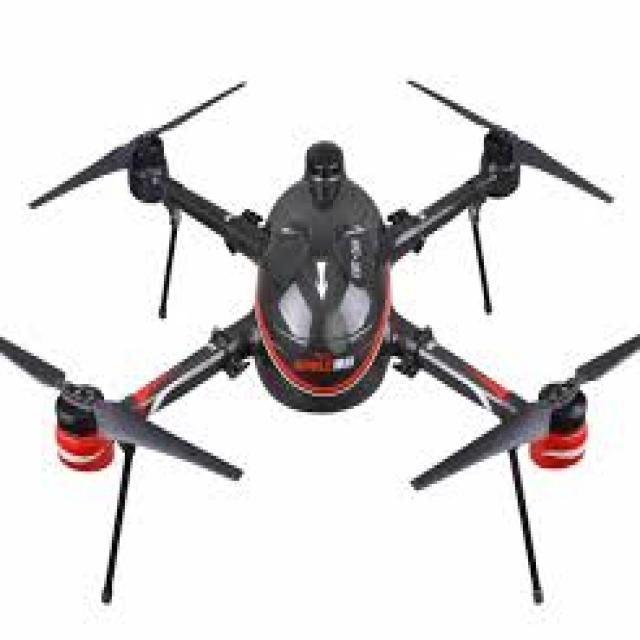drone: (0, 13, 640, 609)
